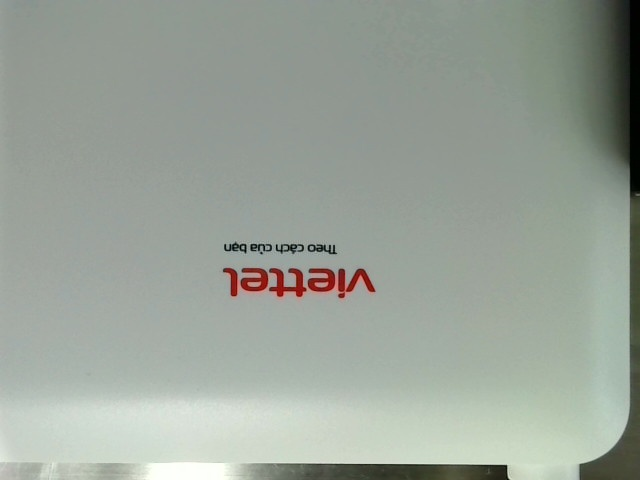AY_Viettel: (221, 239, 380, 302)
